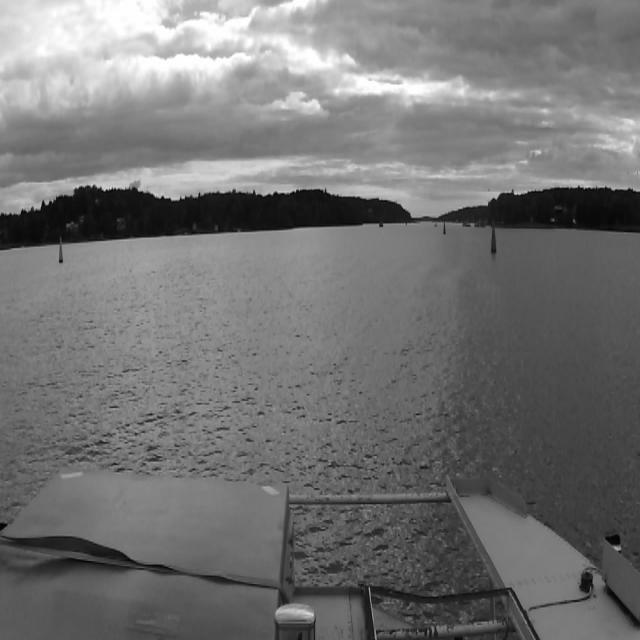buoy: (491, 222, 497, 254), (58, 240, 64, 263)
